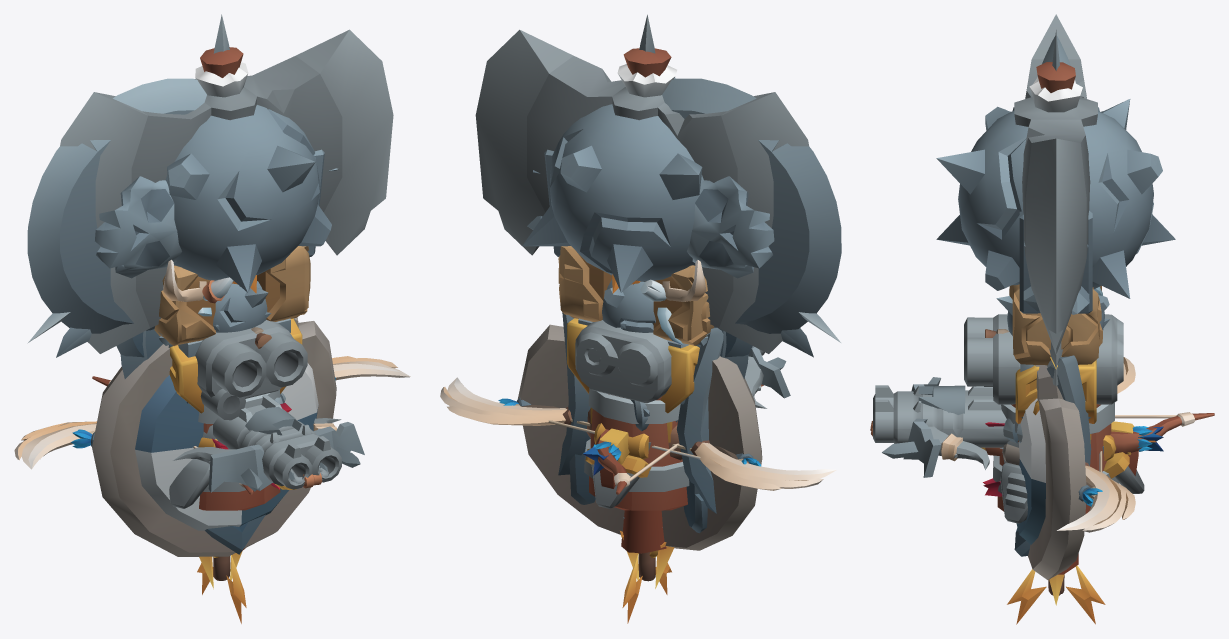
The model's file is weapons.glb.
3 views of the same model, side by side, from view 1: azimuth 30°, elevation 25°; view 2: azimuth 150°, elevation 25°; view 3: azimuth 270°, elevation 25° (orthographic).
Visible parts, largest first — view 1: axe_2handed_Large, shield_round_barbarian_Large, Skeleton_Mace_Large, Skeleton_Golem_Axe_Large, turret_gun, hammer_D, shotgun, Skeleton_Crossbow, axe_1handed_Large, bow_C, mug_empty_Large, Skeleton_Mace (+9 smaller); view 2: axe_2handed_Large, Skeleton_Mace_Large, Skeleton_Golem_Axe_Large, shield_round_barbarian_Large, turret_gun, mug_empty_Large, bow_C, hammer_D, shield_D, axe_1handed_Large, Skeleton_Mace, shield_C (+7 smaller); view 3: Skeleton_Mace_Large, axe_2handed_Large, shield_round_barbarian_Large, turret_gun, shotgun, hammer_D, Skeleton_Crossbow, bow_C, Skeleton_Golem_Axe_Large, shield_D, mug_empty_Large, spear_B (+5 smaller).
Boxes of the visible parts, x1,y1,x2,y2 form: axe_2handed_Large: (60,29,393,550); shield_round_barbarian_Large: (92,317,336,556); Skeleton_Mace_Large: (165,105,331,292); Skeleton_Golem_Axe_Large: (27,78,337,333); turret_gun: (169,318,307,420); hammer_D: (154,246,310,345); shotgun: (213,394,341,489); Skeleton_Crossbow: (208,406,364,492); axe_1handed_Large: (87,264,174,353); bow_C: (14,356,410,469); mug_empty_Large: (198,389,280,510); Skeleton_Mace: (213,281,268,332); axe_2handed_Large: (475,29,808,553); Skeleton_Mace_Large: (522,77,703,292); Skeleton_Golem_Axe_Large: (527,78,841,527); shield_round_barbarian_Large: (517,324,762,550); turret_gun: (567,318,699,413); mug_empty_Large: (584,388,689,510); bow_C: (440,377,836,490); hammer_D: (558,246,714,345); shield_D: (558,312,723,513); axe_1handed_Large: (694,264,782,353); Skeleton_Mace: (602,279,655,332); shield_C: (569,399,708,533); Skeleton_Mace_Large: (936,99,1175,298); axe_2handed_Large: (1014,14,1097,574); shield_round_barbarian_Large: (1002,365,1086,579); turret_gun: (964,314,1123,423); shotgun: (873,385,1138,475); hammer_D: (1009,284,1102,365); Skeleton_Crossbow: (882,377,965,477); bow_C: (1057,357,1135,532); Skeleton_Golem_Axe_Large: (1009,35,1102,314); shield_D: (1014,355,1091,556); mug_empty_Large: (993,402,1119,513); spear_B: (1007,565,1105,624).
Size of the model in its own units: 2.77 by 4.11 by 2.16.
Materials: 10 (10 with a texture image).
